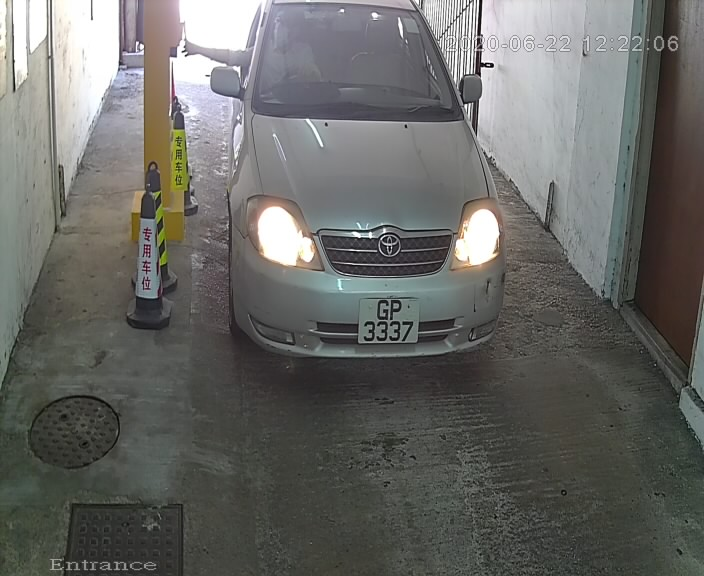privatecar: (189, 1, 516, 379)
